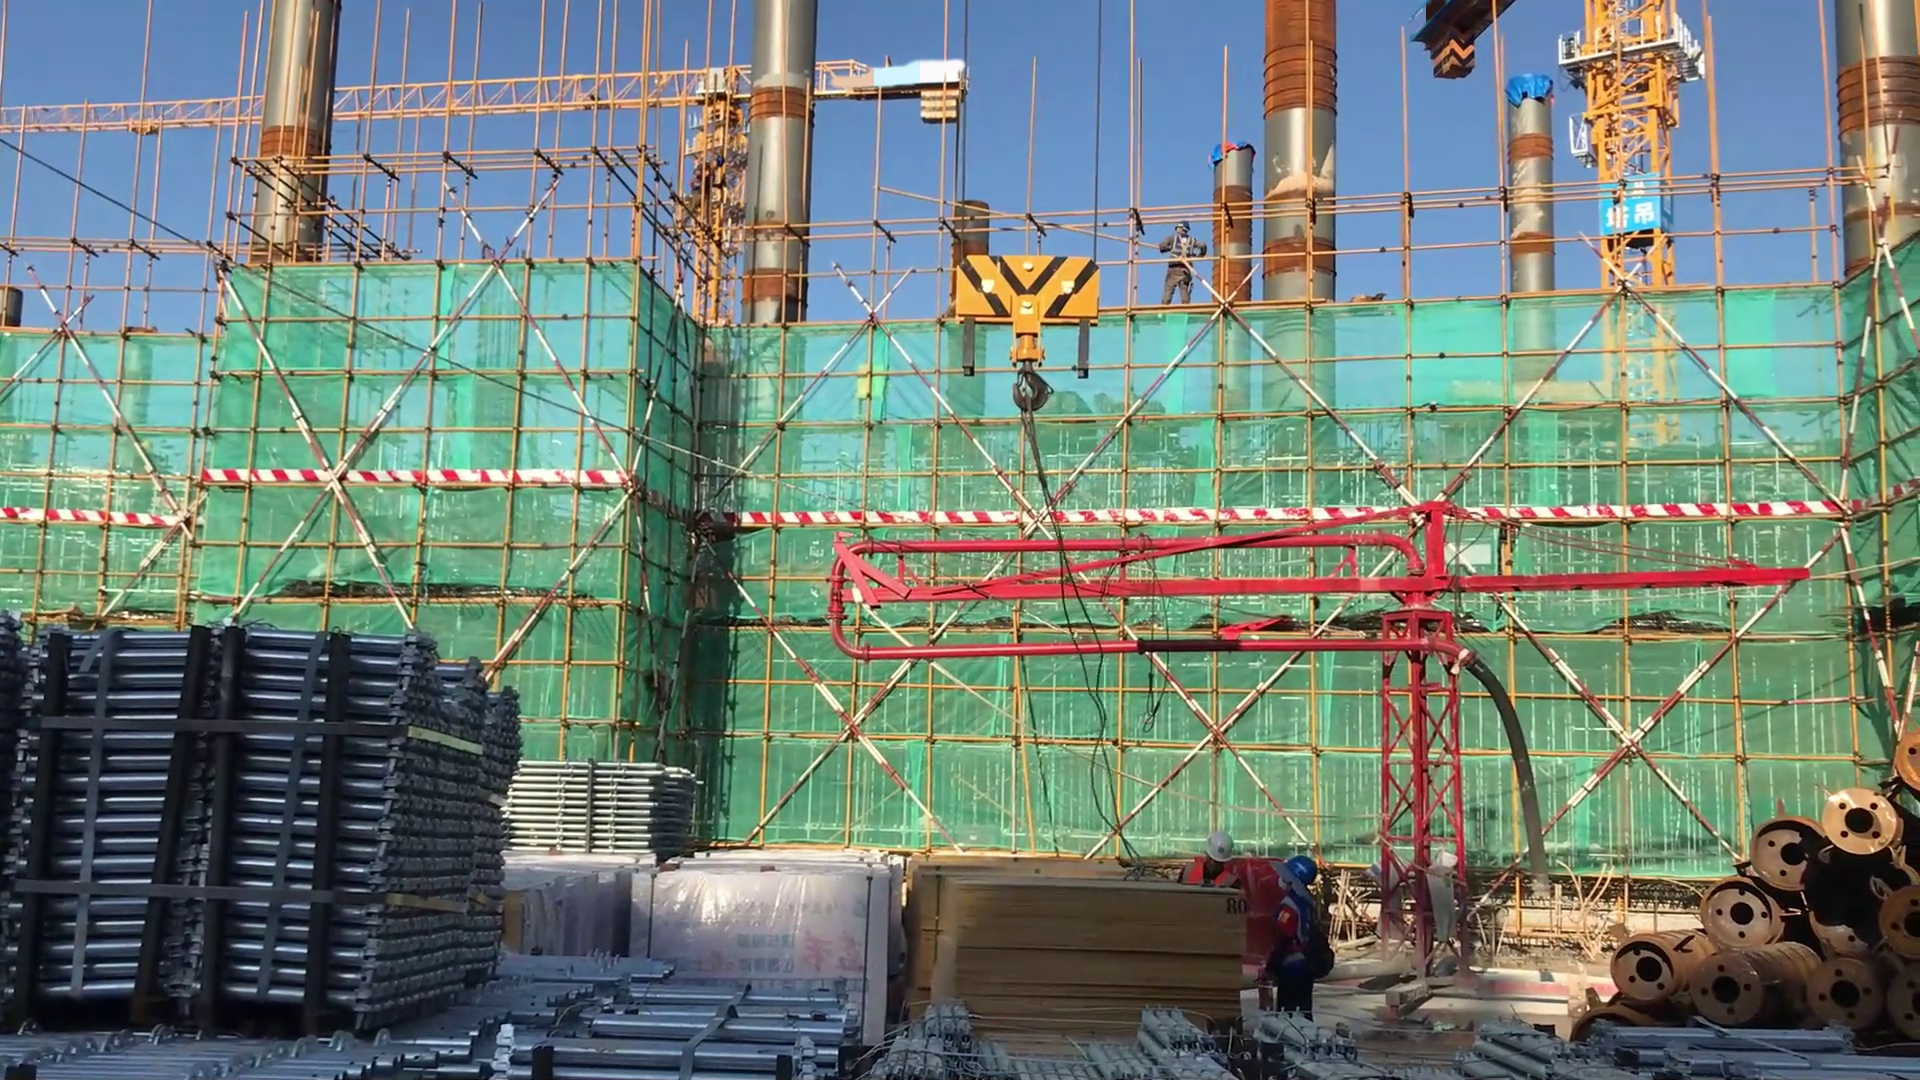board: (905, 858, 1248, 1049)
helmet: (1276, 851, 1320, 890), (1197, 829, 1234, 861), (1171, 218, 1195, 236)
hook: (938, 235, 1133, 457)
person: (1269, 838, 1338, 1032), (1117, 824, 1249, 890), (1152, 213, 1208, 322)
scaffold: (13, 599, 523, 1020), (1, 945, 677, 1075), (474, 967, 861, 1080), (1451, 1001, 1905, 1080), (845, 1003, 1251, 1080), (493, 752, 713, 860), (1250, 996, 1393, 1073)
slogan: (1605, 185, 1666, 241)
vest: (1271, 892, 1324, 985), (1181, 859, 1243, 891), (1169, 232, 1197, 269)
